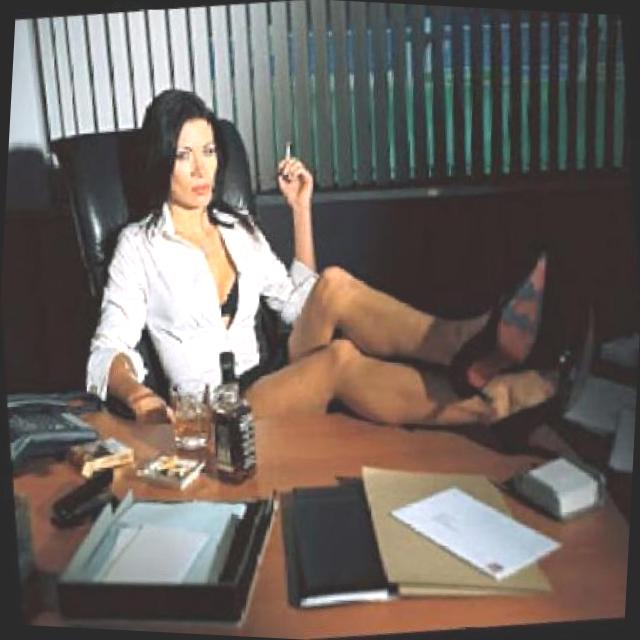cigarette: (278, 142, 294, 168)
